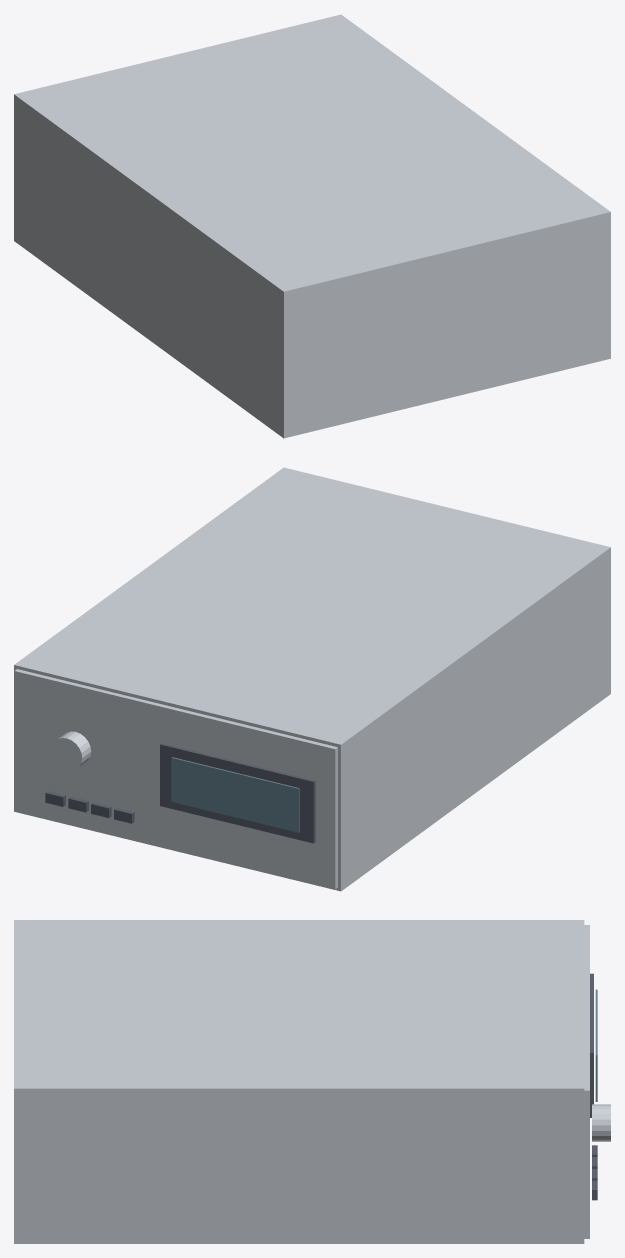
Rendered from band-detector.glb.
3 renders of one model, top to bottom at view 1: azimuth 30°, elevation 25°; view 2: azimuth 150°, elevation 25°; view 3: azimuth 270°, elevation 25°, orthographic. The views are drawn at different scales.
Parts seen in each view (by area): view 1: silver enclosure; view 2: silver enclosure, front panel, screen glass, black display bezel, silver rotary control; view 3: silver enclosure, front panel, silver rotary control, black display bezel.
Part boxes in pixels (left/top/right/bottom): silver enclosure: left=14, top=14, right=610, bottom=438; silver enclosure: left=14, top=467, right=610, bottom=891; front panel: left=14, top=669, right=337, bottom=889; screen glass: left=171, top=757, right=299, bottom=832; black display bezel: left=160, top=743, right=315, bottom=843; silver rotary control: left=51, top=731, right=91, bottom=770; silver enclosure: left=14, top=920, right=584, bottom=1243; front panel: left=584, top=925, right=589, bottom=1238; silver rotary control: left=592, top=1104, right=610, bottom=1141; black display bezel: left=590, top=973, right=593, bottom=1117.
Size of the model in its own units: 0.21 by 0.098 by 0.314.
